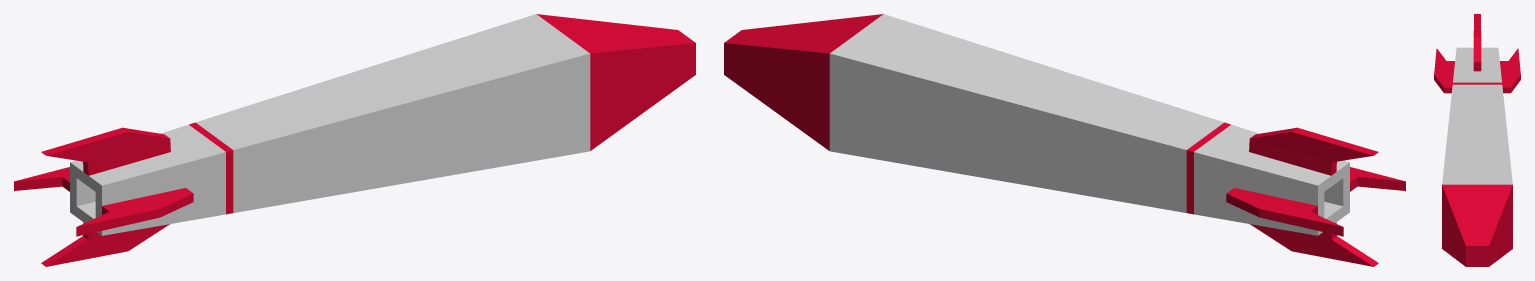
The model's file is HomingMissle.fbx.
The picture shows the model from 3 angles, left to right: view 1: azimuth 30°, elevation 25°; view 2: azimuth 150°, elevation 25°; view 3: azimuth 270°, elevation 25°; orthographic projection. The views are drawn at different scales.
Parts seen in each view (by area): view 1: Cube; view 2: Cube; view 3: Cube.
Part boxes in pixels (bbox=[...]): Cube: bbox=[14, 14, 695, 266]; Cube: bbox=[724, 14, 1405, 266]; Cube: bbox=[1434, 14, 1520, 266].
Size of the model in its own units: 100 by 564 by 99.95.
